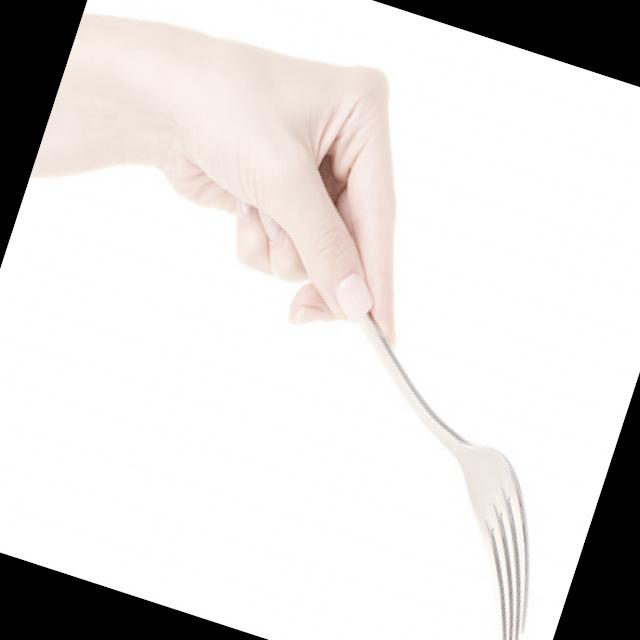fork: (183, 186, 635, 640)
